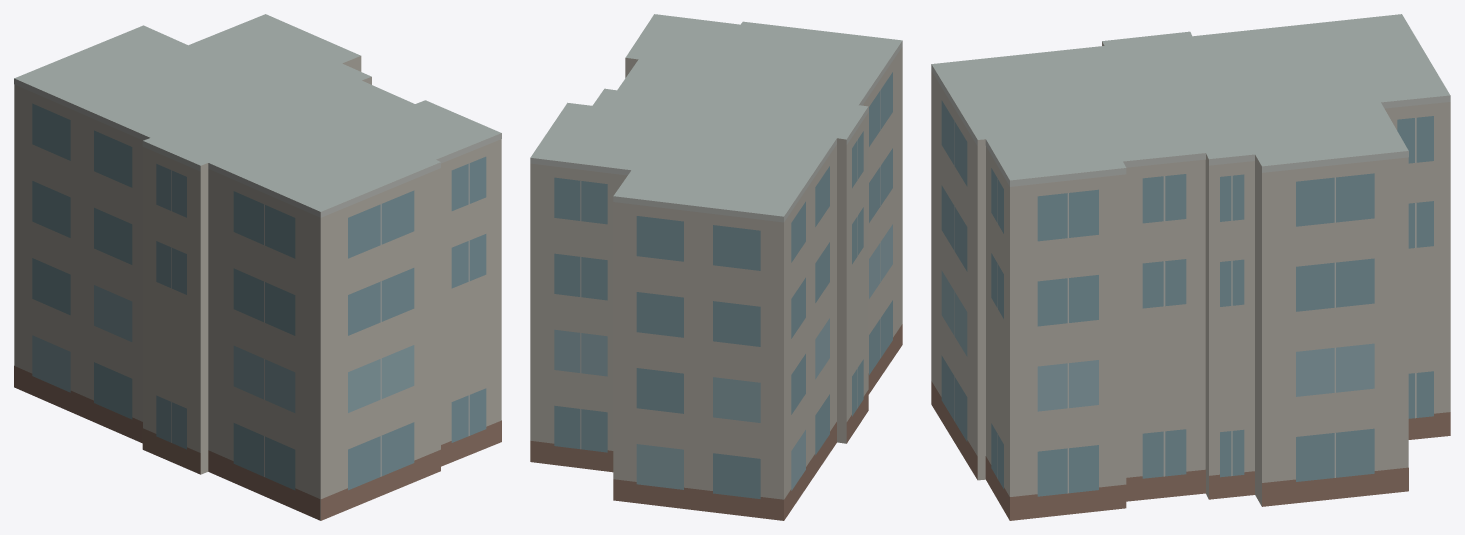
The model's file is survey-upis-32612939.glb.
3 renders of one model, left to right at view 1: azimuth 30°, elevation 25°; view 2: azimuth 150°, elevation 25°; view 3: azimuth 270°, elevation 25°, orthographic. The views are drawn at different scales.
Parts seen in each view (by area): view 1: survey-upis-32612939.tmp; view 2: survey-upis-32612939.tmp; view 3: survey-upis-32612939.tmp.
Boxes of the visible parts, x1,y1,x2,y2 form: survey-upis-32612939.tmp: (14, 14, 501, 520); survey-upis-32612939.tmp: (530, 14, 902, 520); survey-upis-32612939.tmp: (931, 14, 1450, 520).
Bounding box in the file's own units: 13.44 × 12.8 × 17.7.
